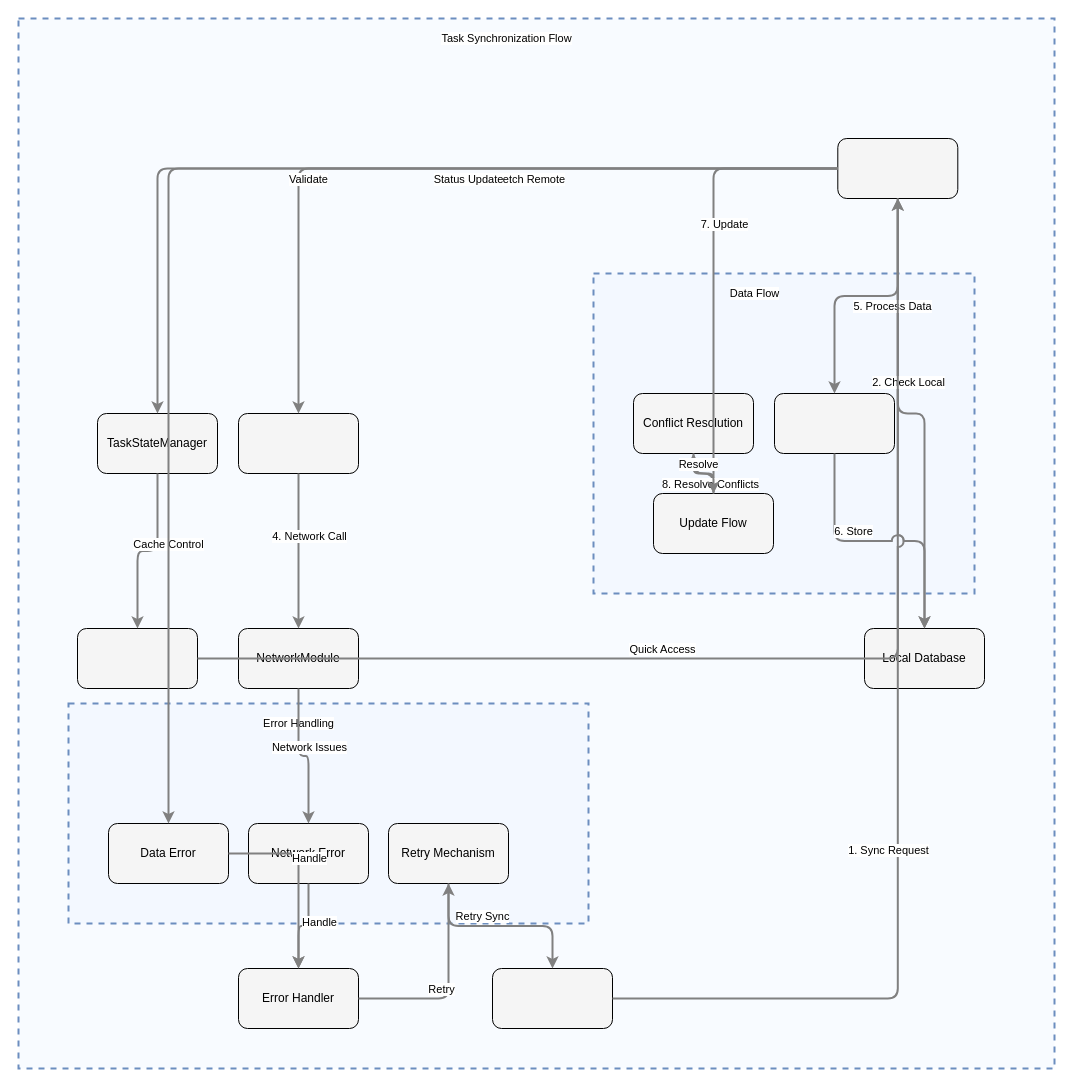
This 1072x1086 diagram has some shape labels left out. The shapes that lost their labels are listed below. From the top down, each one's box as (x1, y1, x2, y2) in pixels, then its label:
(837, 138, 958, 198): TaskRepository
(238, 412, 358, 474): TaskApi
(774, 392, 894, 454): Fetch Flow
(76, 628, 198, 688): Cache Layer
(492, 968, 612, 1028): TimeTableSynchronizer
